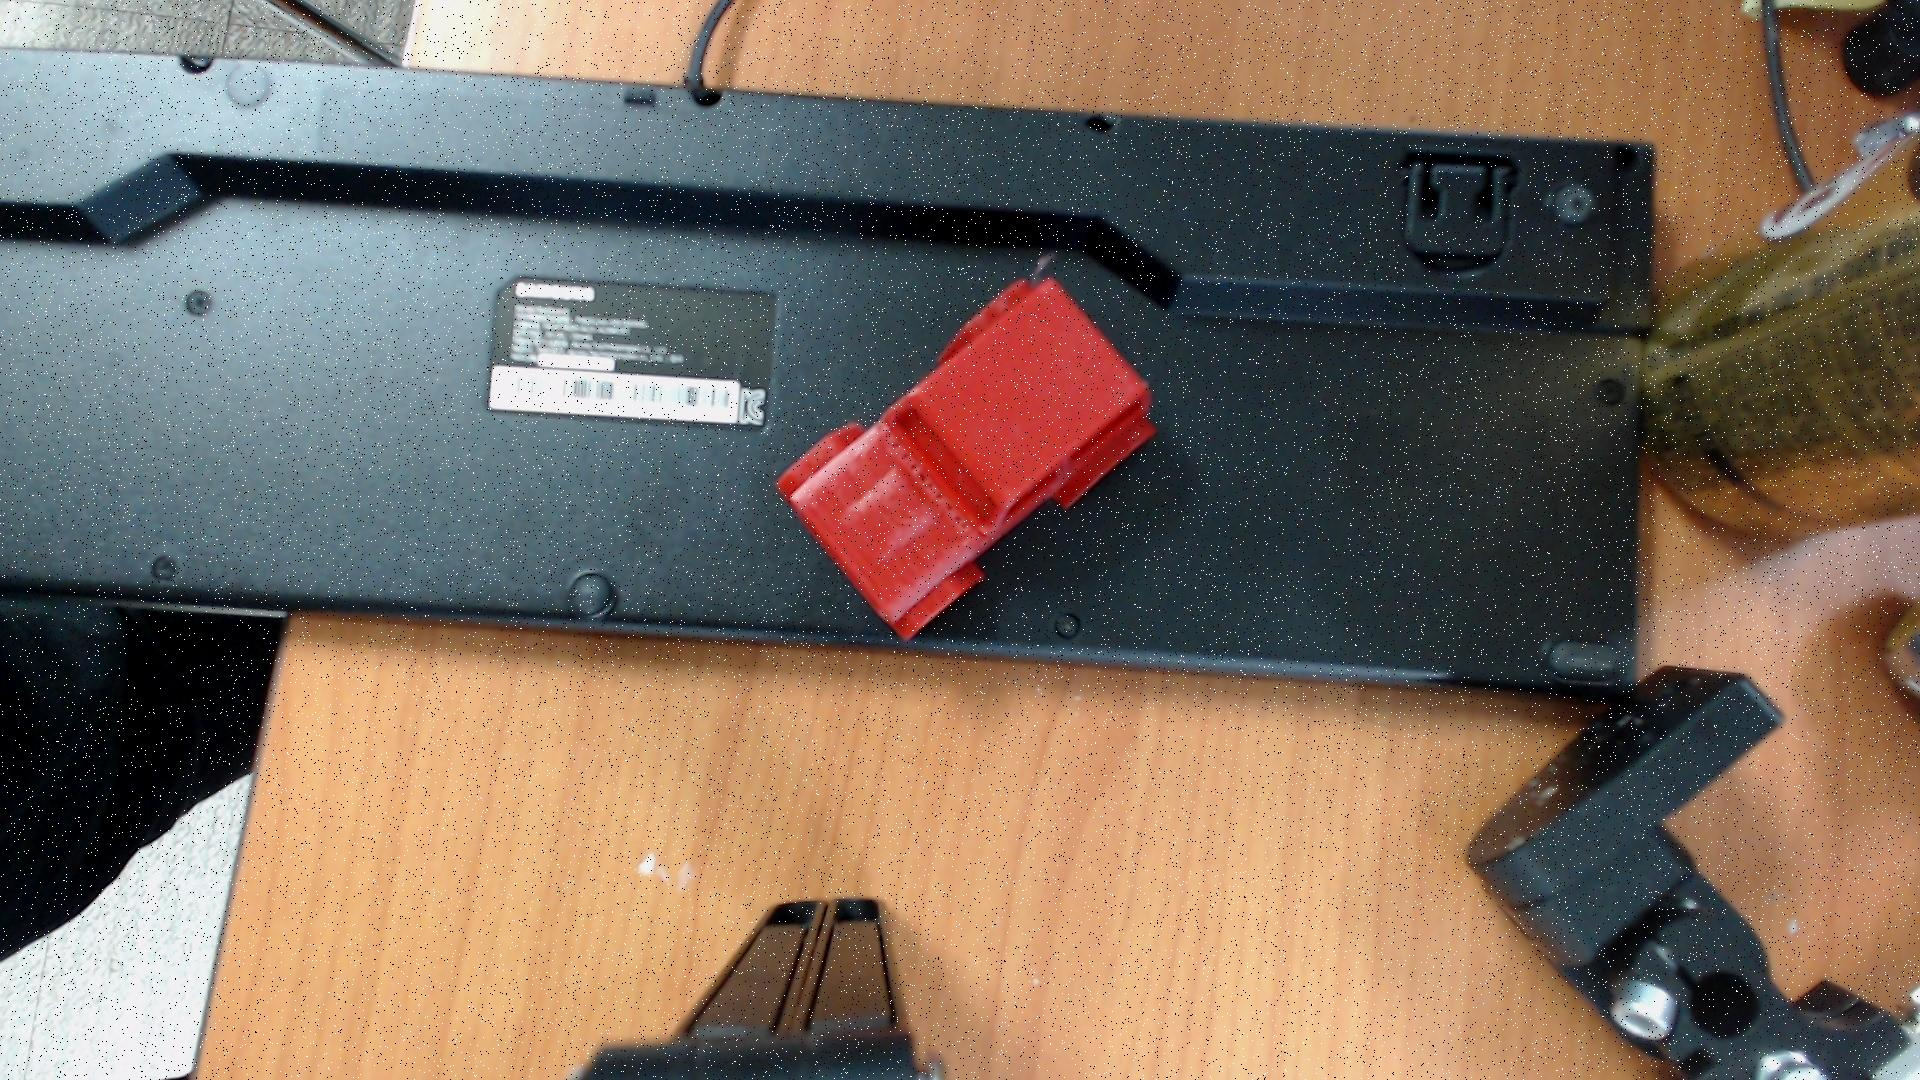Upper_ok: (775, 280, 1154, 640)
